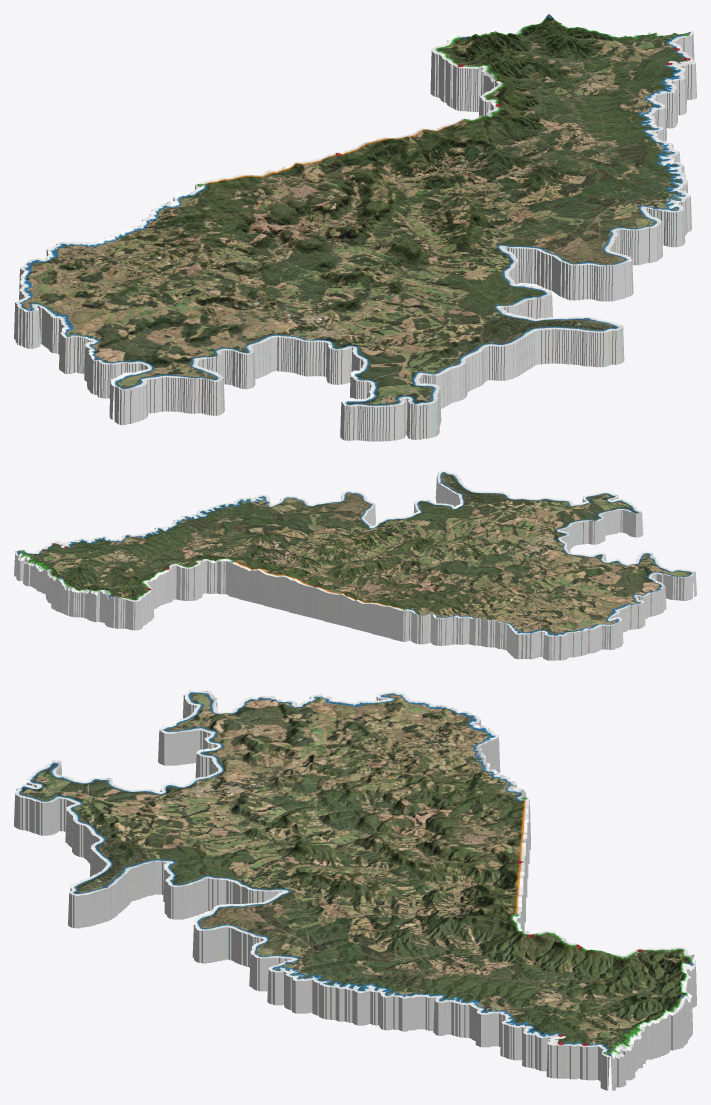
The picture shows the model from 3 angles, top to bottom: view 1: azimuth 30°, elevation 25°; view 2: azimuth 150°, elevation 25°; view 3: azimuth 270°, elevation 25°; orthographic projection. The views are drawn at different scales.
Bounding box in the file's own units: 1 × 0.0616 × 0.7832.
1 material, 1 textured.
